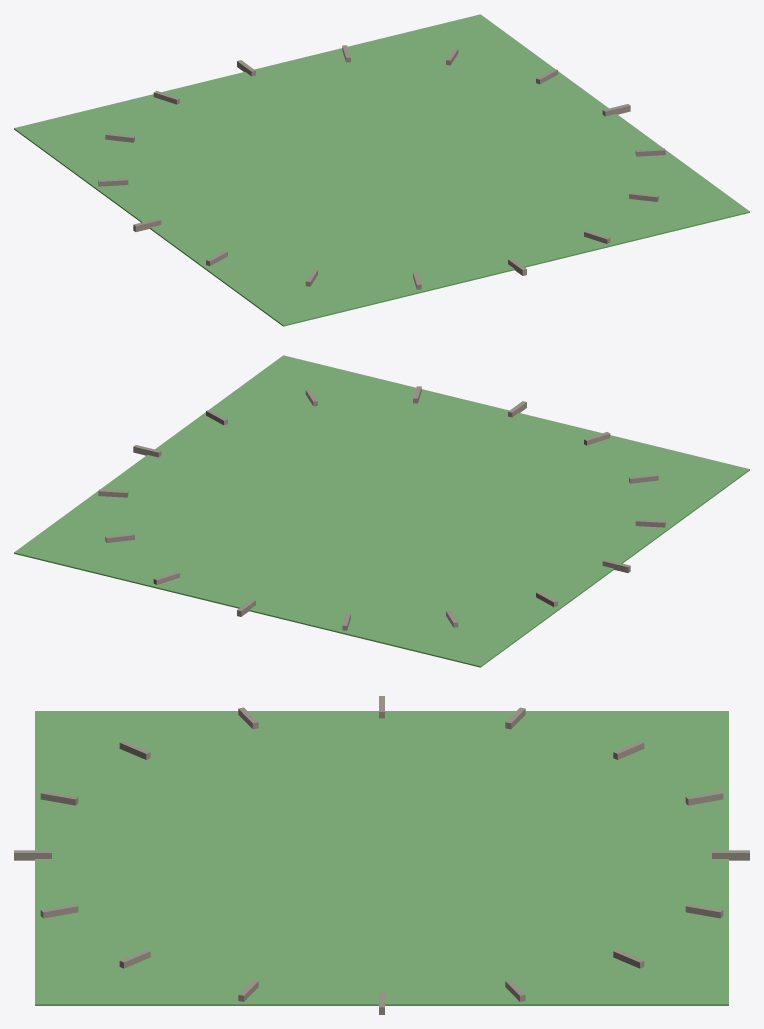
The model's file is island-physics.glb.
The picture shows the model from 3 angles, top to bottom: view 1: azimuth 30°, elevation 25°; view 2: azimuth 150°, elevation 25°; view 3: azimuth 270°, elevation 25°; orthographic projection. The views are drawn at different scales.
Parts seen in each view (by area): view 1: PHY_IslandFloor; view 2: PHY_IslandFloor; view 3: PHY_IslandFloor.
Part boxes in pixels (left/top/right/bottom): PHY_IslandFloor: left=14, top=14, right=749, bottom=326; PHY_IslandFloor: left=14, top=355, right=749, bottom=667; PHY_IslandFloor: left=35, top=711, right=728, bottom=1005.
Size of the model in its own units: 350 by 4.1 by 350.
